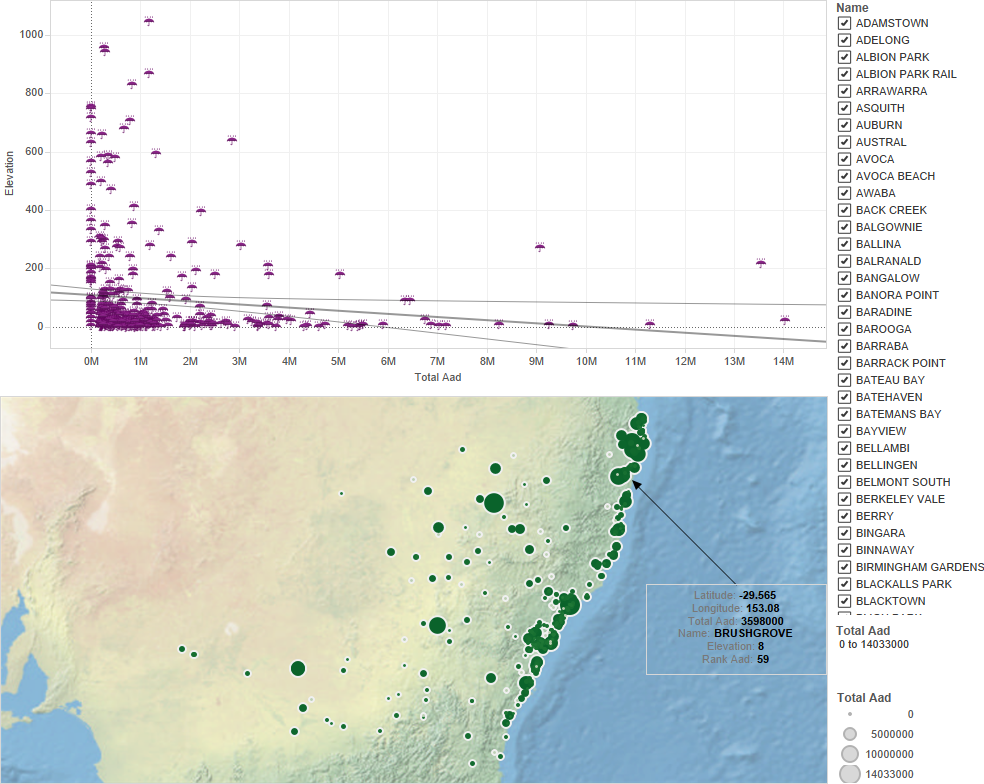

The page's visual inventory and layout, read from the dashboard file:
{"tool":"tableau","page":{"name":"Dashboard 1","canvas":[1000,800],"ordinal":0},"visuals":[{"type":"worksheet","title":"Sheet 4","mark":"Automatic","rows":["Elevation"],"cols":["TOTAL_AAD"],"box":[0,0,840,400]},{"type":"filter","title":"Sheet 2","param":"[excel-direct.0nu73nm17bqeqv121xnw00vkn2yq].[none:NAME:nk]","box":[840,0,160,627]},{"type":"worksheet","title":"Sheet 2","mark":"Automatic","rows":["Latitude"],"cols":["Longitude"],"box":[0,400,840,400]},{"type":"filter","title":"Sheet 2","param":"[excel-direct.0nu73nm17bqeqv121xnw00vkn2yq].[none:TOTAL_AAD:qk]","box":[840,627,160,66]},{"type":"legend","title":"Sheet 2","param":"[excel-direct.0nu73nm17bqeqv121xnw00vkn2yq].[none:TOTAL_AAD:qk]","box":[840,693,160,107]}]}

Visuals, with their boxes in screenshot pixels (x1, y1, x2, y2), scaled from the page's 1000x800 canvas onto the 984x784 screenshot:
"Sheet 4" worksheet: (x1=0, y1=0, x2=827, y2=392)
"Sheet 2" filter: (x1=827, y1=0, x2=983, y2=614)
"Sheet 2" worksheet: (x1=0, y1=392, x2=827, y2=783)
"Sheet 2" filter: (x1=827, y1=614, x2=983, y2=679)
"Sheet 2" legend: (x1=827, y1=679, x2=983, y2=783)
